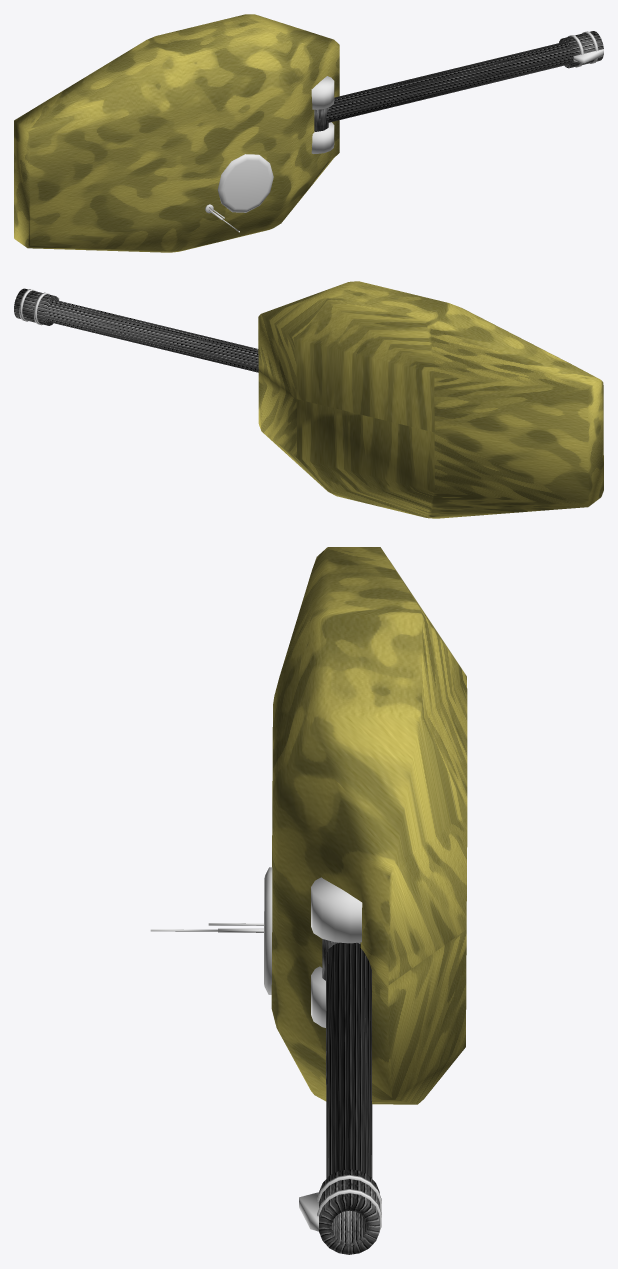
The model's file is Cannon.fbx.
3 views of the same model, one above another, from view 1: azimuth 30°, elevation 25°; view 2: azimuth 150°, elevation 25°; view 3: azimuth 270°, elevation 25° (orthographic). The views are drawn at different scales.
Parts seen in each view (by area): view 1: Base, Cannon0, Color, Color0; view 2: Base, Cannon0; view 3: Base, Cannon0, Color, Color0.
Part boxes in pixels (x1=…): Base: x1=14, y1=14, x2=339, y2=252; Cannon0: x1=314, y1=31, x2=603, y2=131; Color: x1=205, y1=76, x2=334, y2=232; Color0: x1=568, y1=31, x2=603, y2=67; Base: x1=258, y1=281, x2=603, y2=518; Cannon0: x1=14, y1=288, x2=258, y2=372; Base: x1=271, y1=547, x2=467, y2=1104; Cannon0: x1=319, y1=939, x2=379, y2=1254; Color: x1=150, y1=867, x2=362, y2=1027; Color0: x1=299, y1=1174, x2=381, y2=1231.
Bounding box in the file's own units: 91.5 × 30.24 × 21.86.
2 materials, 2 textured.
